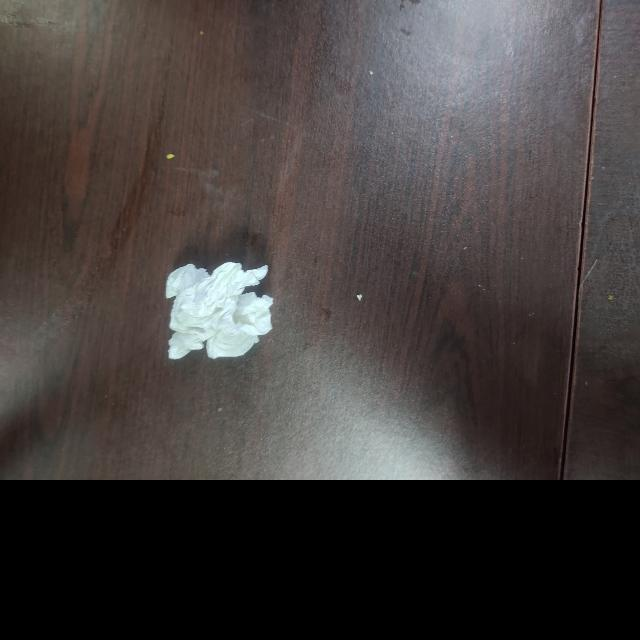kitchen paper: (164, 264, 276, 362)
